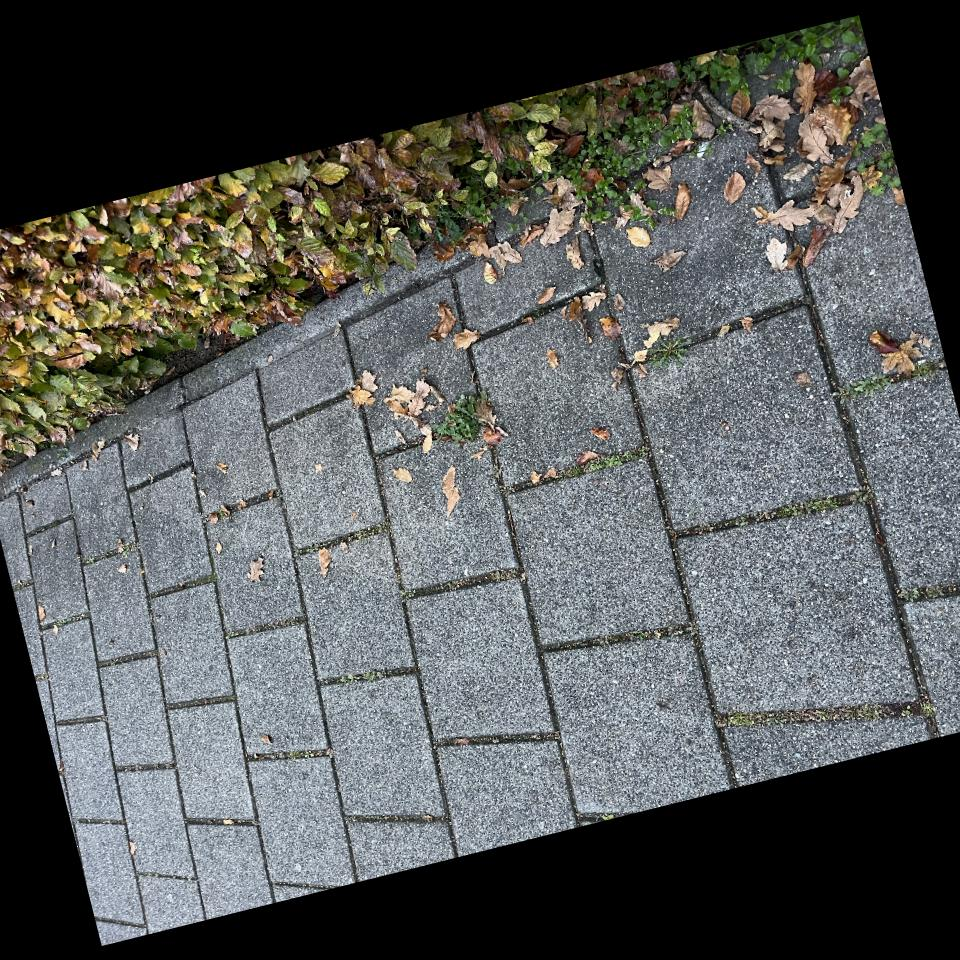weed: (397, 707, 427, 793), (429, 578, 478, 626), (505, 793, 536, 835)
